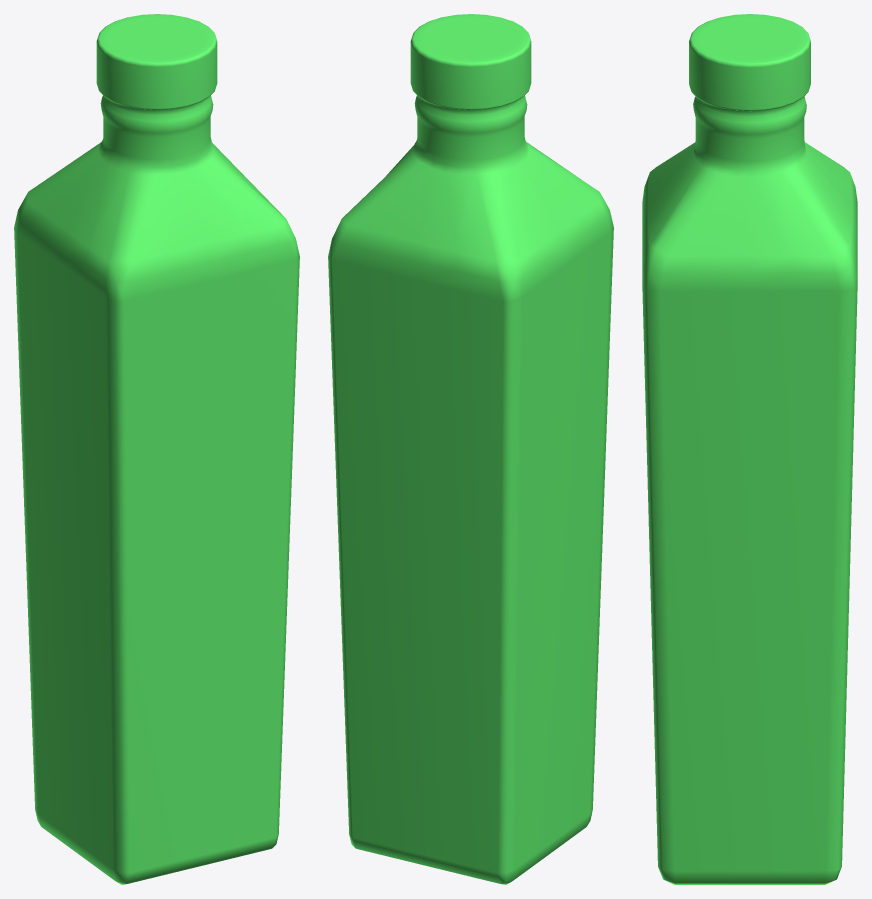
File: SM_Bottle_Oil.fbx
3 renders of one model, left to right at view 1: azimuth 30°, elevation 25°; view 2: azimuth 150°, elevation 25°; view 3: azimuth 270°, elevation 25°, orthographic.
Visible parts, largest first — view 1: SM_Bottle_Oil; view 2: SM_Bottle_Oil; view 3: SM_Bottle_Oil.
Boxes of the visible parts, box(x1,y1,x2,y2) form: SM_Bottle_Oil: box(14, 14, 299, 884); SM_Bottle_Oil: box(328, 14, 613, 884); SM_Bottle_Oil: box(642, 14, 857, 884).
Bounding box in the file's own units: 7.6 × 30.56 × 7.35.
